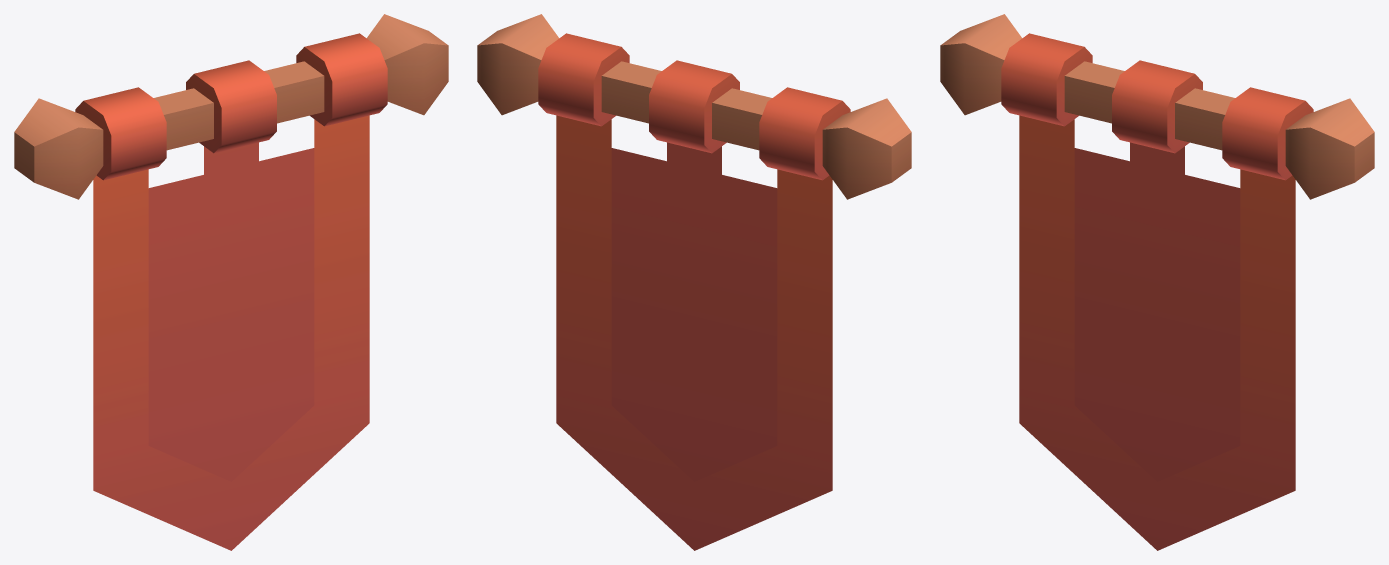
File: dungeon_banner.glb
3 renders of one model, left to right at view 1: azimuth 30°, elevation 25°; view 2: azimuth 150°, elevation 25°; view 3: azimuth 330°, elevation 25°, orthographic.
Visible parts, largest first — view 1: banner; view 2: banner; view 3: banner.
Part boxes in pixels (x1,y1,x2,y2): banner: (14, 14, 448, 550); banner: (477, 14, 911, 550); banner: (940, 14, 1374, 550).
Size of the model in its own units: 0.6 by 0.6644 by 0.1.
Materials: 1 (1 with a texture image).
